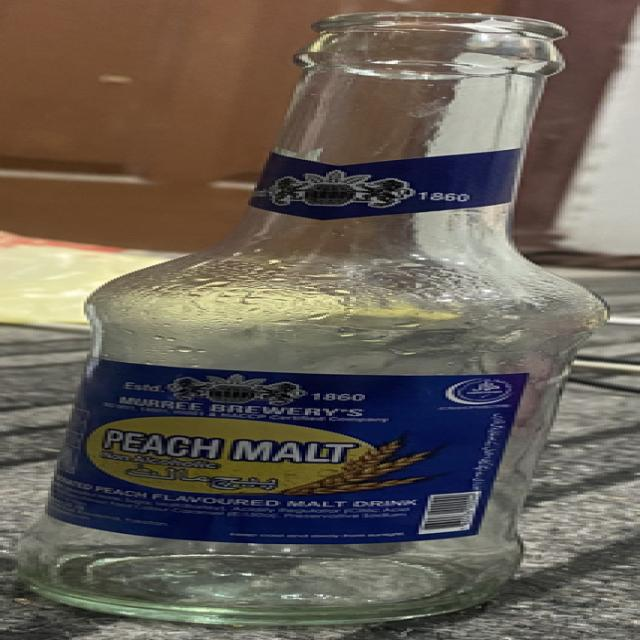electronic: (34, 12, 605, 629)
